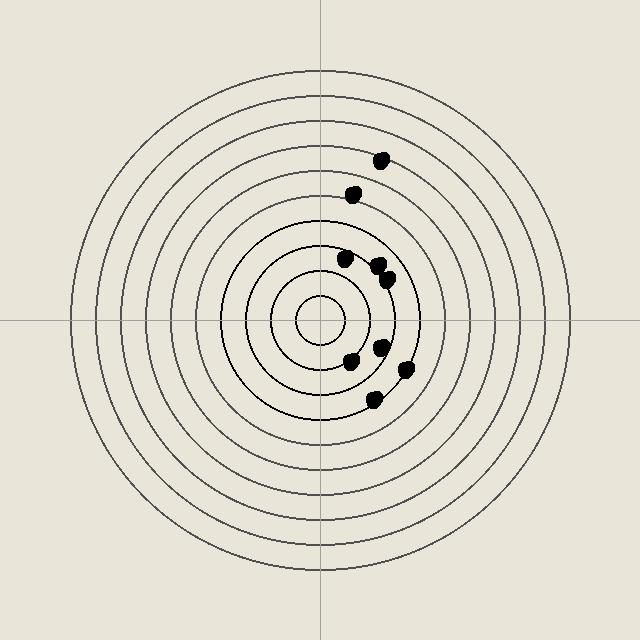vertical_scatter: (376, 269, 396, 289), (334, 248, 354, 268), (367, 255, 387, 275), (370, 337, 390, 357), (395, 359, 415, 379), (342, 184, 362, 204), (340, 351, 360, 371), (370, 150, 390, 170), (363, 389, 383, 409)
